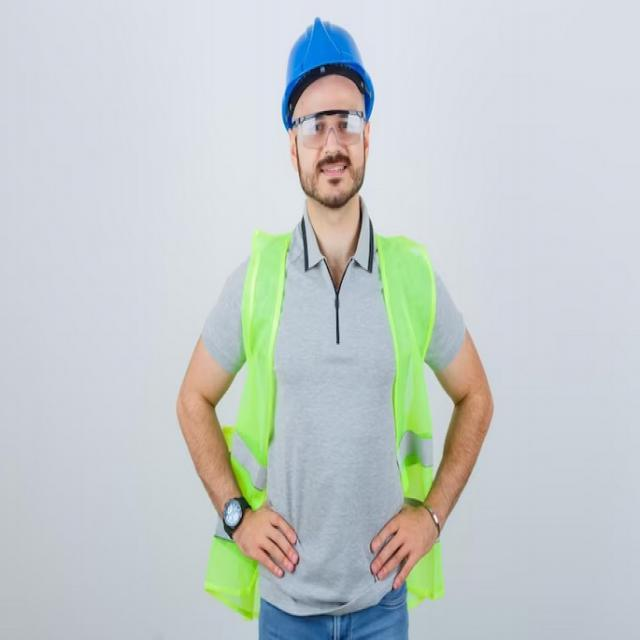helmet: (268, 10, 386, 134)
